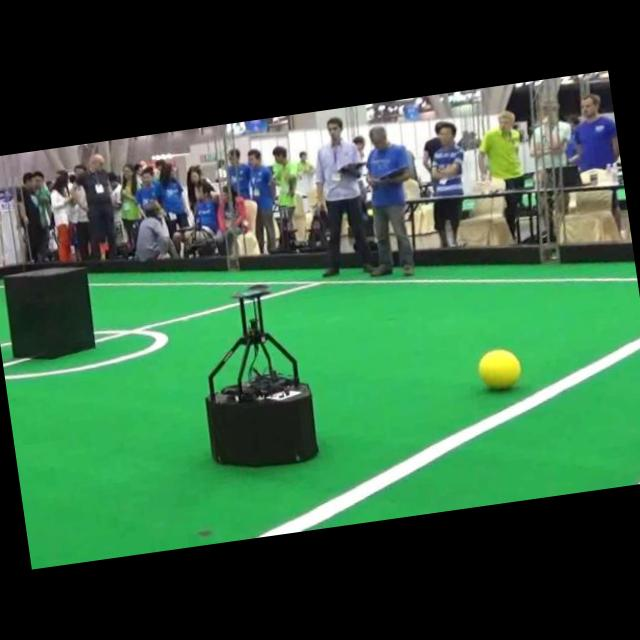ball: (478, 349, 521, 389)
robot: (205, 290, 317, 465)
